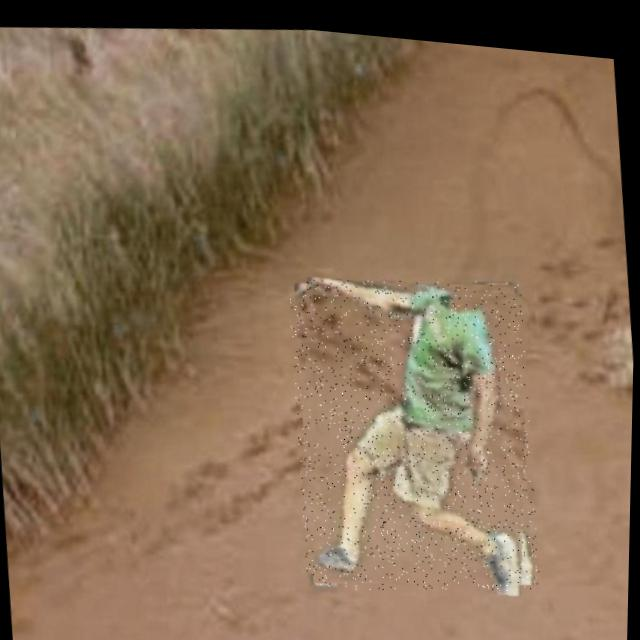Person in Rubble: (283, 254, 548, 600)
